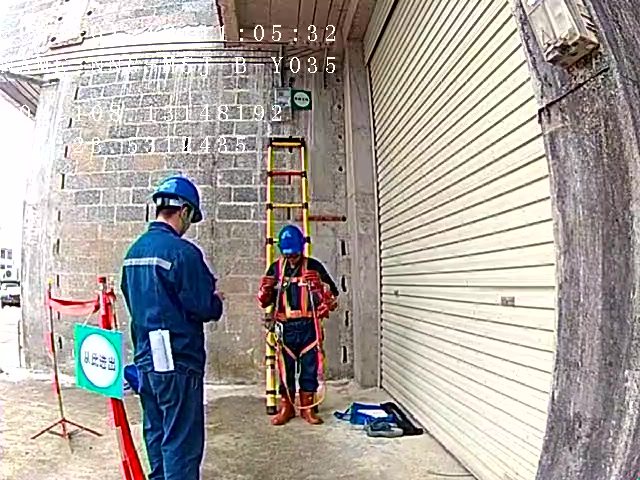downsuit: (134, 369, 210, 480), (276, 335, 319, 390)
halt: (151, 175, 203, 228), (279, 223, 310, 264)
inear: (178, 200, 194, 227)
intosign: (73, 322, 125, 400)
longglove: (305, 267, 332, 306), (256, 273, 276, 308)
person: (118, 172, 226, 480), (251, 229, 342, 421)
safebelt: (255, 256, 340, 408)
shoe: (272, 391, 322, 426)
upsuit: (121, 219, 222, 345), (264, 260, 338, 330)
worksign: (291, 88, 312, 111)
